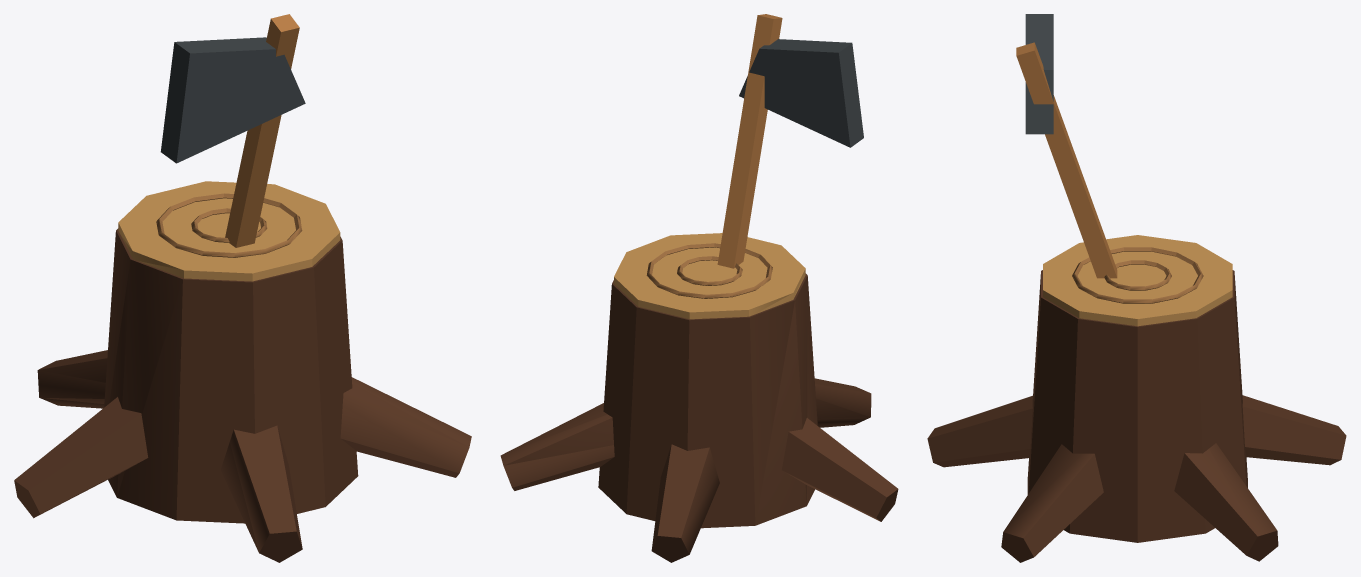
The model's file is 26_chopping_block.fbx.
3 views of the same model, side by side, from view 1: azimuth 30°, elevation 25°; view 2: azimuth 150°, elevation 25°; view 3: azimuth 270°, elevation 25° (orthographic). The views are drawn at different scales.
Parts seen in each view (by area): view 1: 26_chopping_block; view 2: 26_chopping_block; view 3: 26_chopping_block.
Boxes of the visible parts, bbox=[...] form: 26_chopping_block: bbox=[14, 14, 471, 562]; 26_chopping_block: bbox=[500, 14, 898, 562]; 26_chopping_block: bbox=[927, 14, 1346, 562].
Bounding box in the file's own units: 1.14 × 1.4 × 1.19.
Materials: 1 (1 with a texture image).
